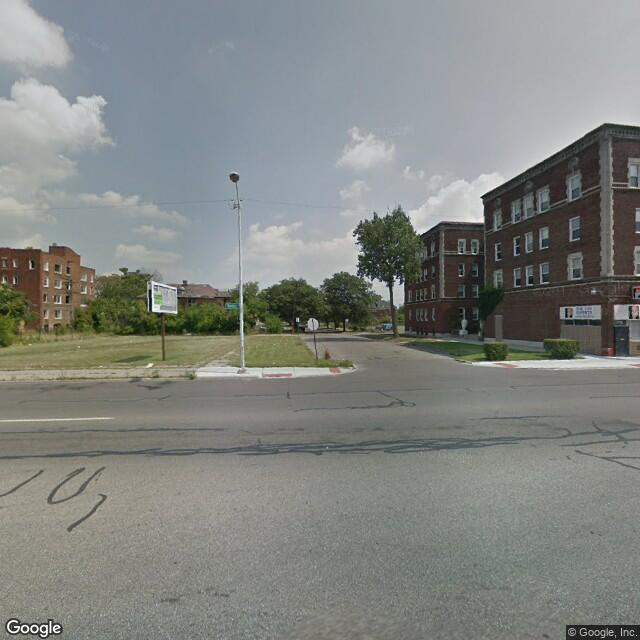litter: (141, 362, 157, 370)
